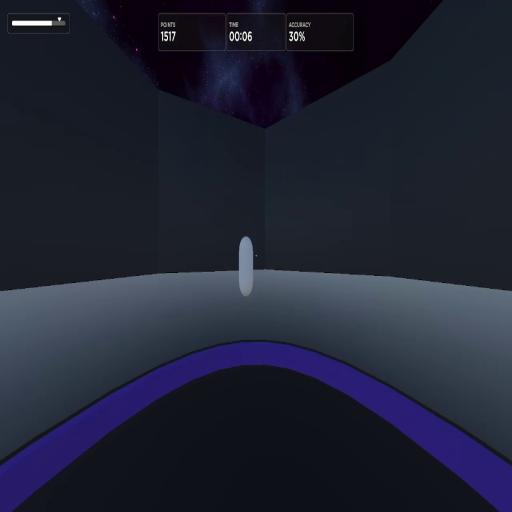Crosshair: (256, 254, 258, 258)
Target: (239, 236, 253, 297)
